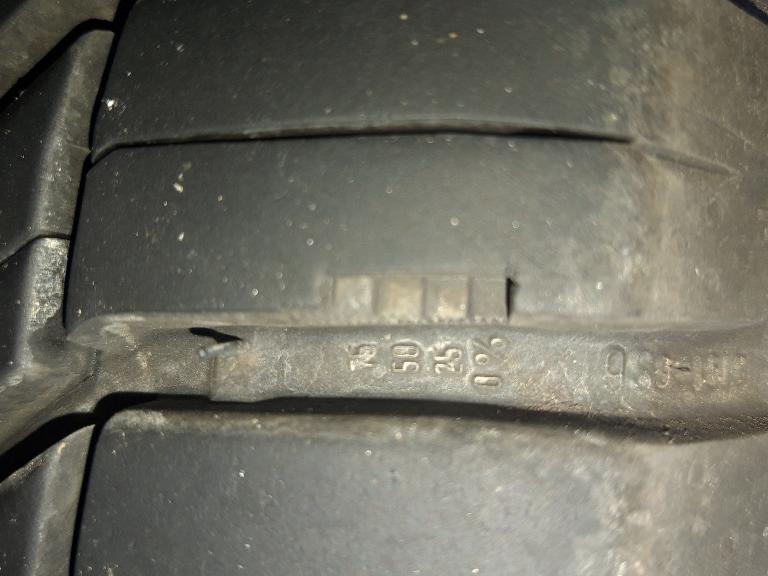temoin:90: (270, 260, 531, 342)
